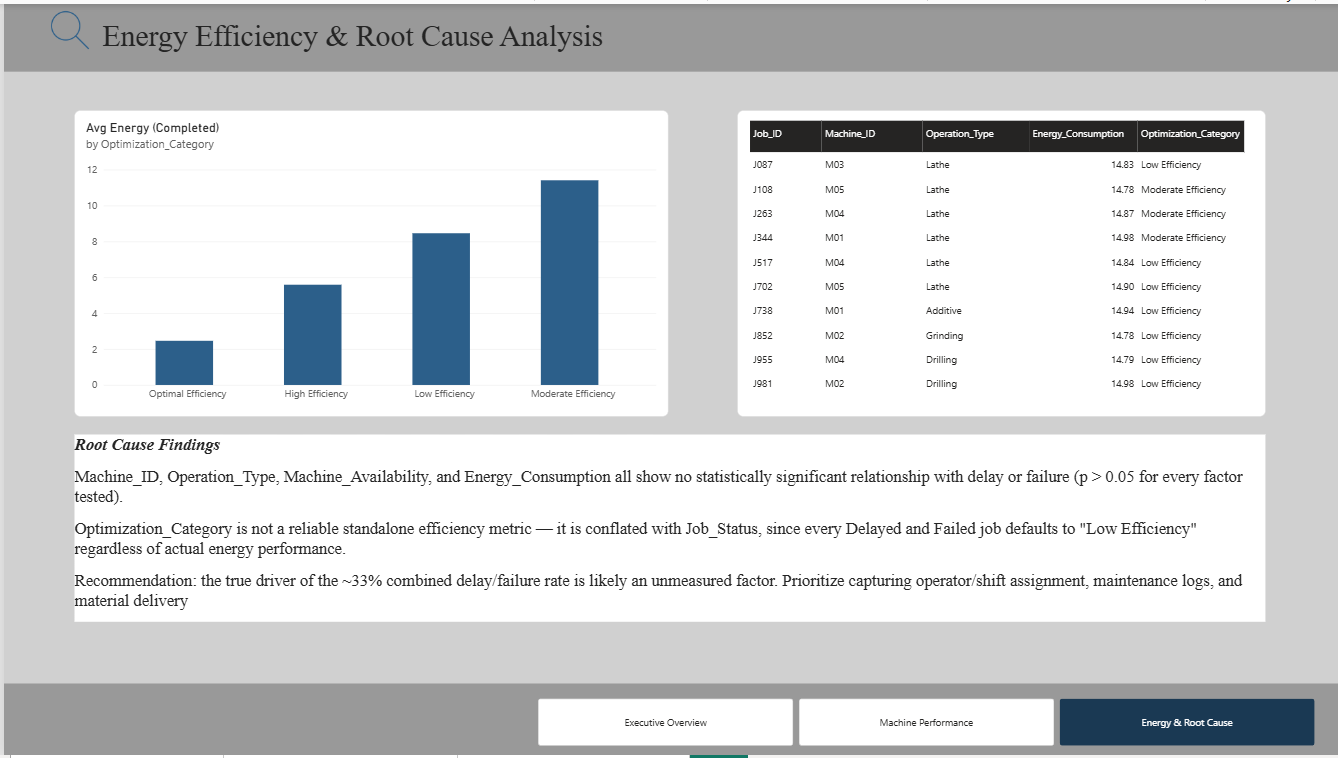

This screenshot's page, from the dashboard's own definition file:
{"tool":"powerbi","page":{"name":"Energy & Root Cause","canvas":[1920,1080],"ordinal":2},"visuals":[{"type":"textbox","box":[0,977.2,1919.9,103.5],"z":0},{"type":"pageNavigator","box":[768.2,997.8,1119.7,68],"z":1000},{"type":"textbox","box":[0,0,1919.3,97.7],"z":2000},{"type":"textbox","box":[56.1,21.6,903.9,56.1],"z":3000},{"type":"clusteredColumnChart","fields":{"Category":["hybrid_manufacturing.Optimization_Category"],"Y":["hybrid_manufacturing.Avg Energy (Completed)"]},"box":[100.4,153.2,854.2,440.1],"z":3001},{"type":"tableEx","fields":{"Values":["hybrid_manufacturing.Job_ID","hybrid_manufacturing.Machine_ID","hybrid_manufacturing.Operation_Type","hybrid_manufacturing.Energy_Consumption","hybrid_manufacturing.Optimization_Category"]},"box":[1053.8,153.2,759.3,440.1],"z":3002},{"type":"textbox","box":[101.4,619.1,1712.8,269.6],"z":3003},{"type":"image","box":[43.1,0,101.4,77.7],"z":3004}]}

Visuals, with their boxes in screenshot pixels (x1, y1, x2, y2), scaled from the page's 1920x1080 canvas onto the 1338x758 screenshot:
textbox: 0/686/1337/757
pageNavigator: 535/700/1316/748
textbox: 0/0/1337/69
textbox: 39/15/669/55
clusteredColumnChart - hybrid_manufacturing.Optimization_Category x hybrid_manufacturing.Avg Energy (Completed): 70/108/665/416
tableEx - hybrid_manufacturing.Job_ID x hybrid_manufacturing.Machine_ID: 734/108/1264/416
textbox: 71/435/1264/624
image: 30/0/101/55
